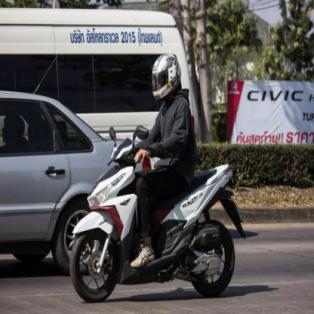Motocicleta: (65, 133, 241, 300)
